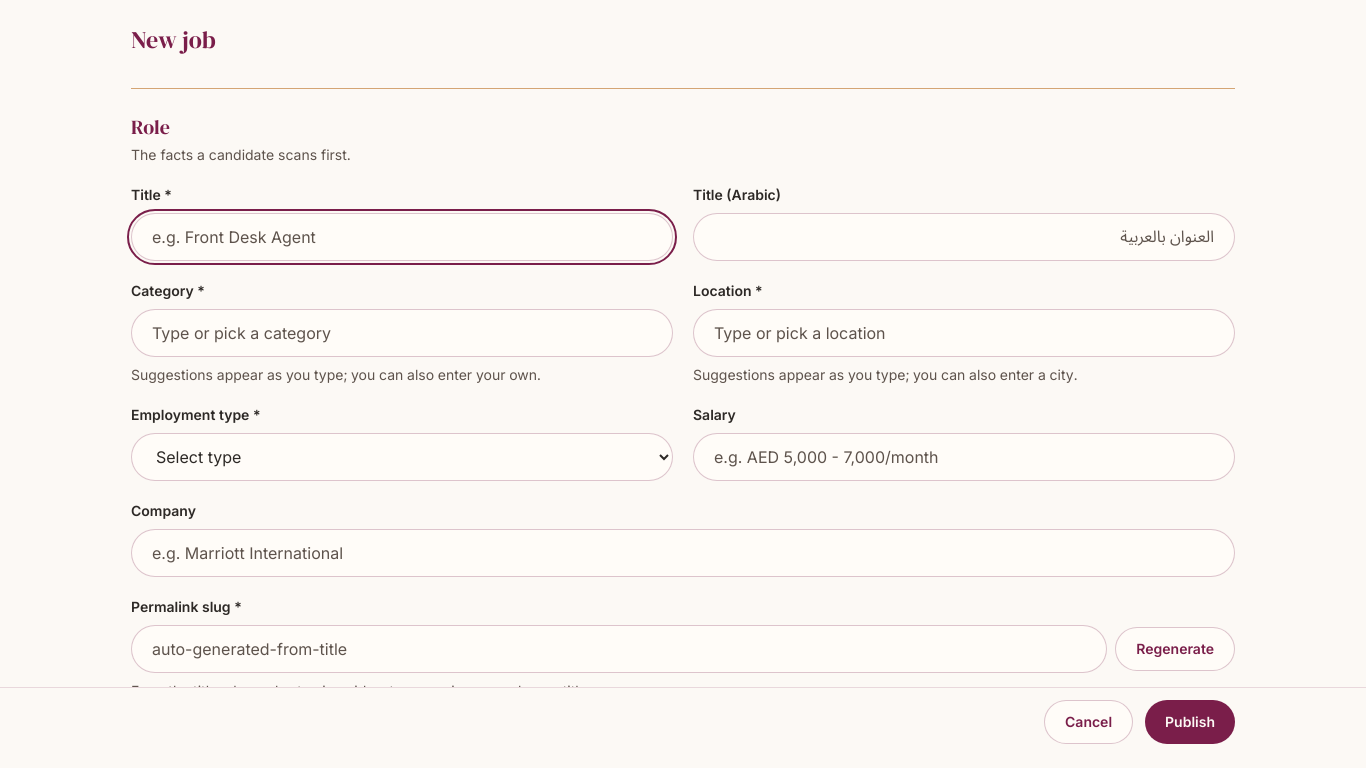
JobEditor › shows a title error and keeps the draft when required fields are empty
What coordinates should you click on to do the following:
click the button with id "editor-save-btn"
I would click on:
 (1190, 722)
Its box is [1145,700,1235,744].
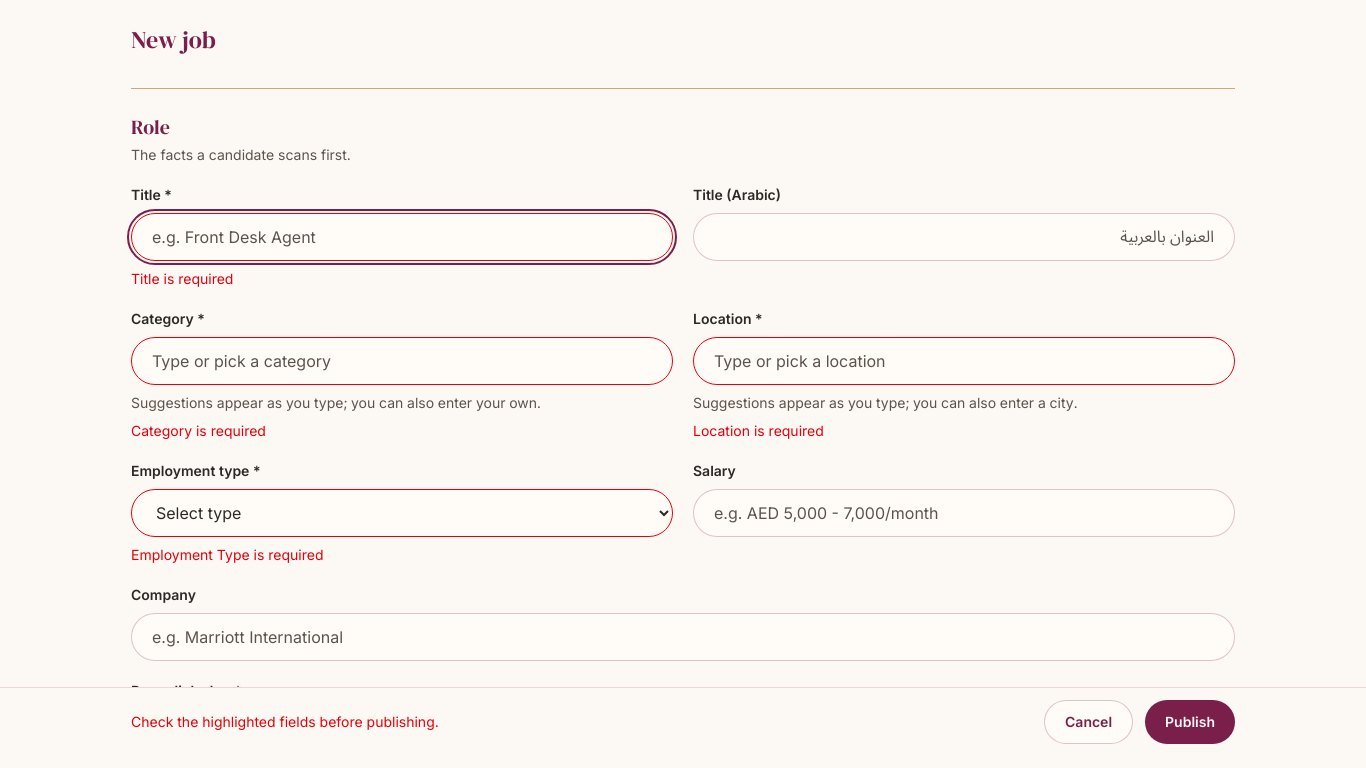
Expected: the text "Title is required" is shown, [131,270,233,287]
Expected: the text "Check the highlighted fields before publishing." is shown, [131,712,439,732]
